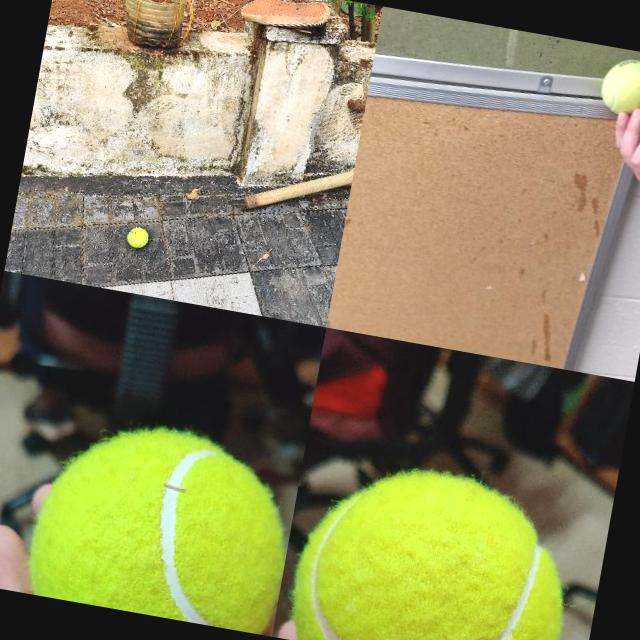Tennis Ball: (21, 410, 302, 635), (285, 451, 583, 640), (598, 53, 640, 120), (125, 225, 150, 250)
